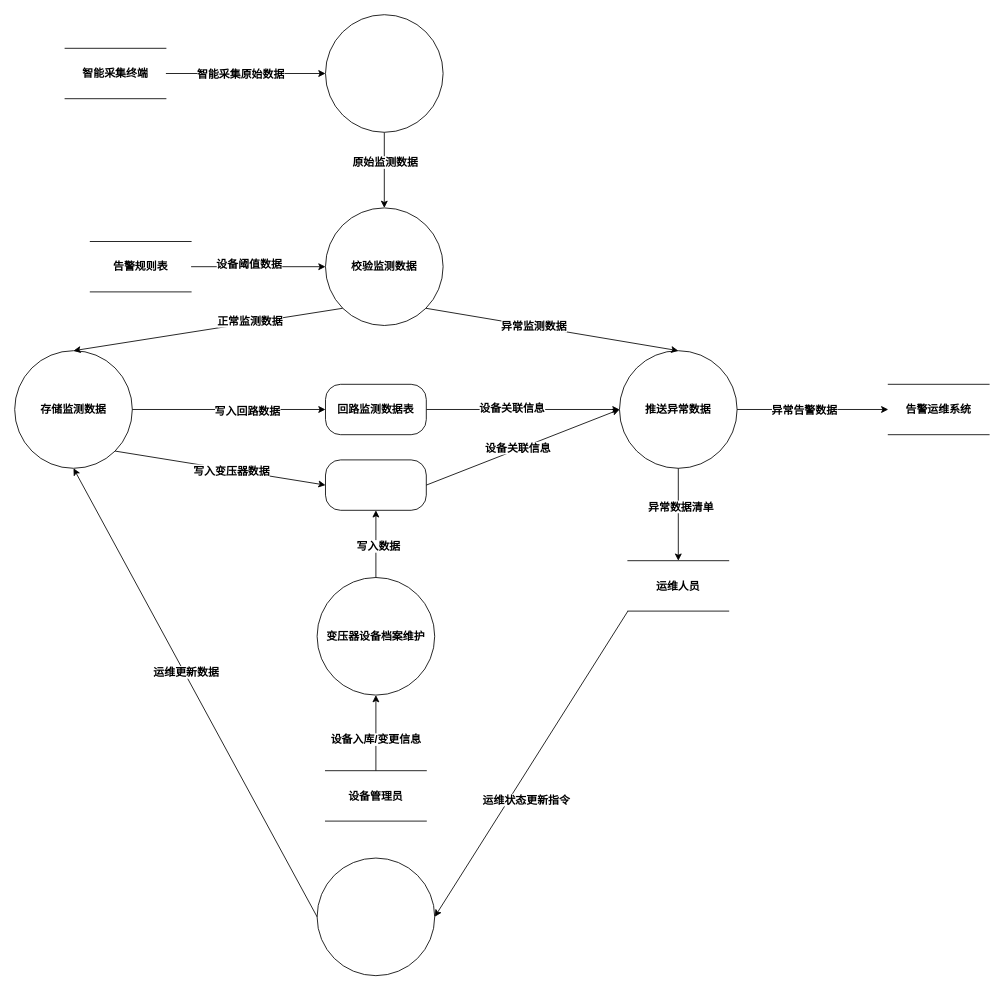
This 1004x990 diagram has some shape labels left out. The centre of each missing label's shape, as x and y in pixels:
"变压器监测数据表" goes at point 375,484.
"处理运维更新" goes at point 375,916.
"接收终端数据" goes at point 384,73.
